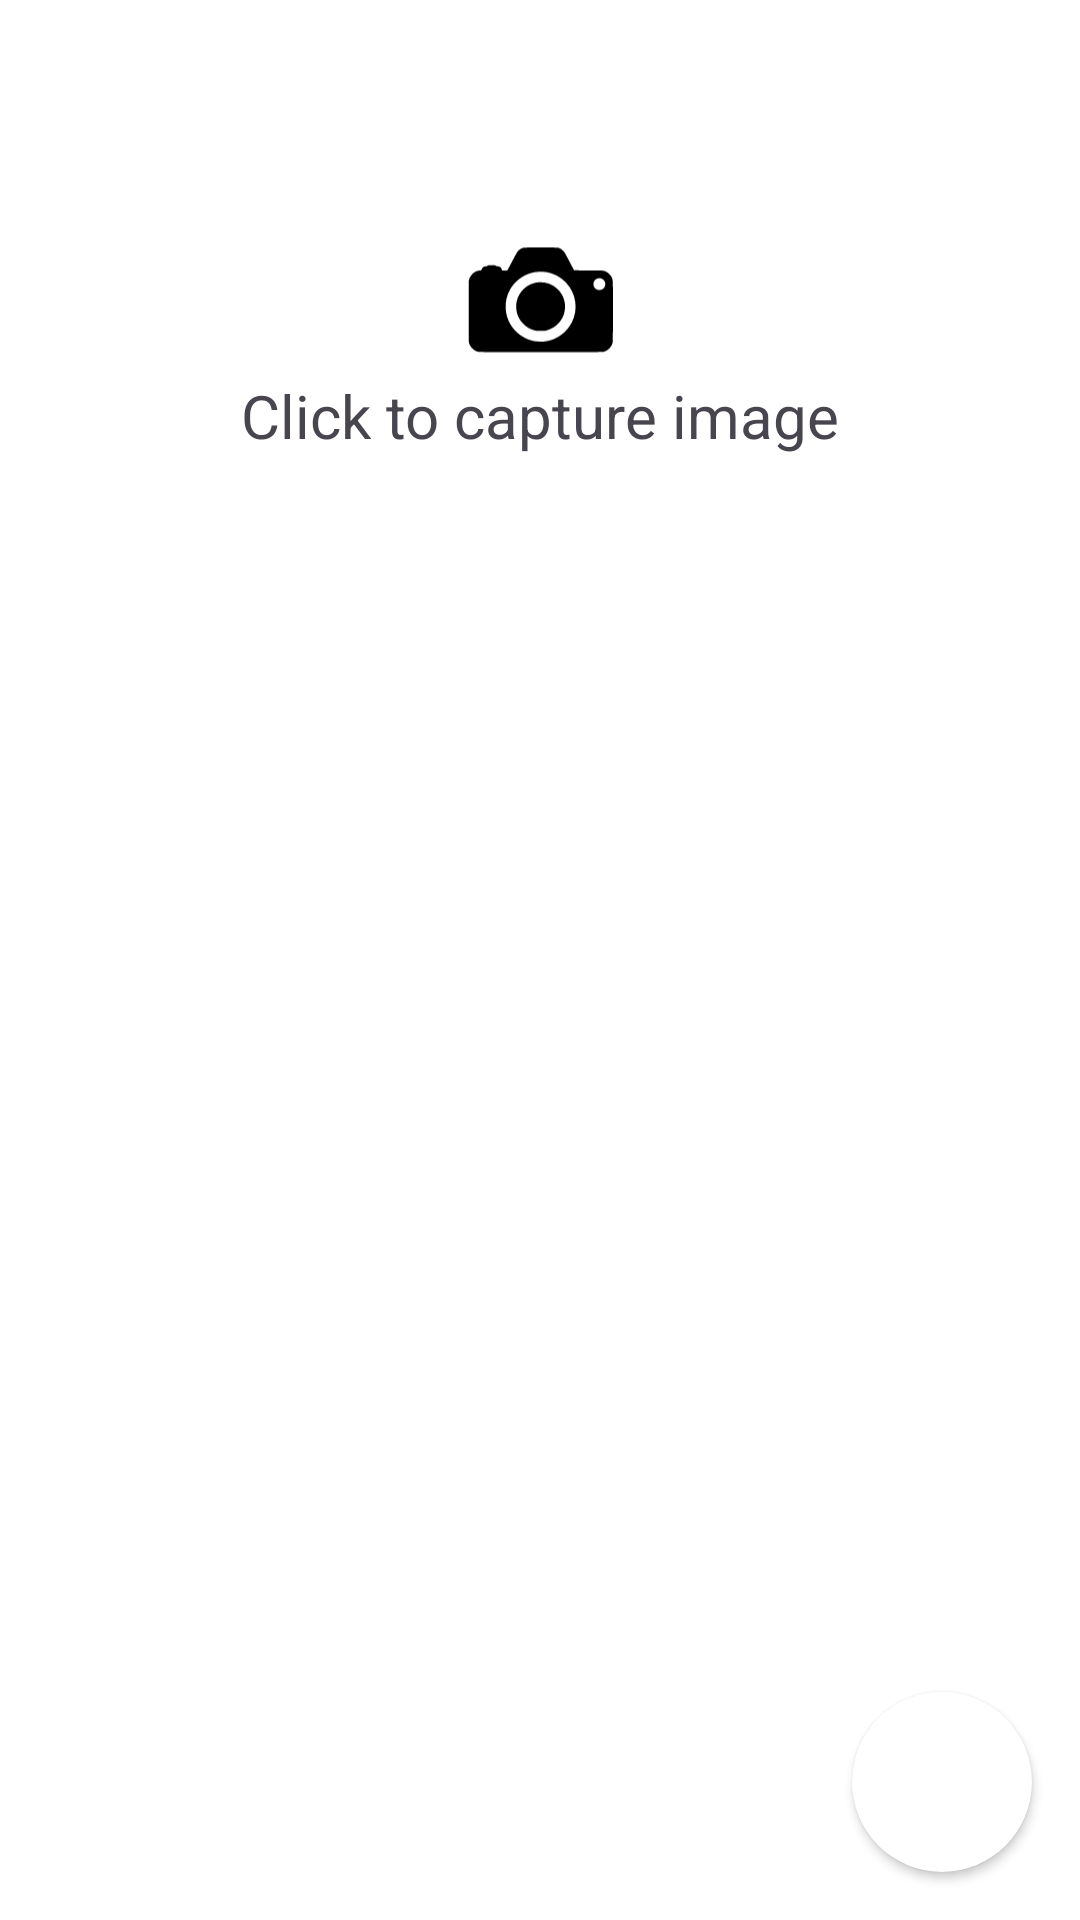

Icon bounding boxes for this 1080 × 1920 phone screenshot, format (left=x1, top=y1, right=x2, bottom=y2):
Take Picture: (left=468, top=247, right=613, bottom=353)
